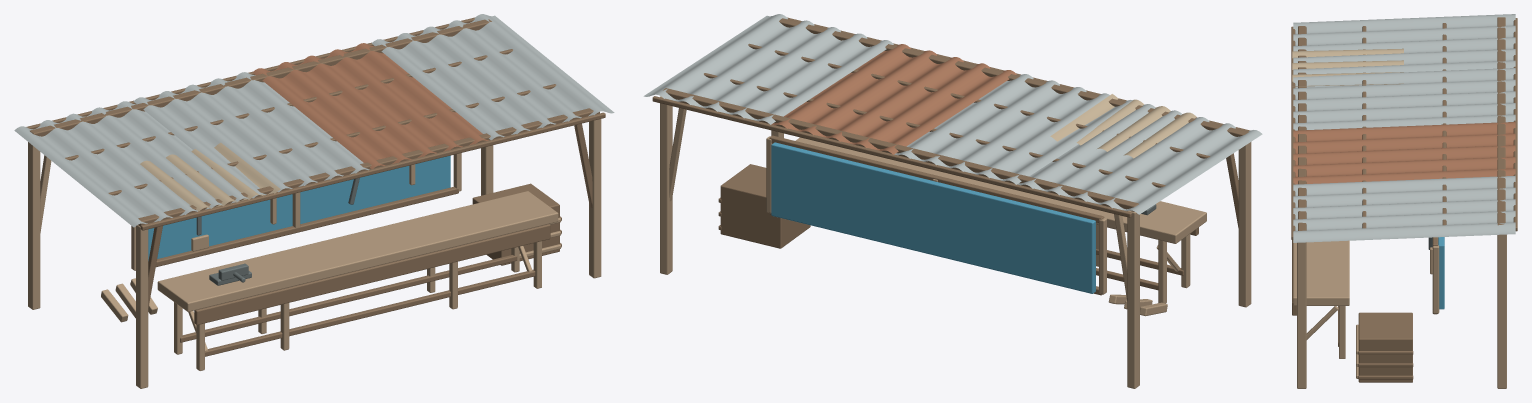
File: scavenger_workarea.glb
The picture shows the model from 3 angles, left to right: view 1: azimuth 30°, elevation 25°; view 2: azimuth 150°, elevation 25°; view 3: azimuth 270°, elevation 25°; orthographic projection. The views are drawn at different scales.
Visible parts, largest first — view 1: Outer work bay timber post; view 2: Outer work bay timber post; view 3: Outer work bay timber post.
Boxes of the visible parts, bbox=[...] form: Outer work bay timber post: bbox=[14, 14, 614, 388]; Outer work bay timber post: bbox=[643, 14, 1262, 388]; Outer work bay timber post: bbox=[1291, 14, 1517, 388].
Size of the model in its own units: 22.81 by 8.04 by 10.03.
